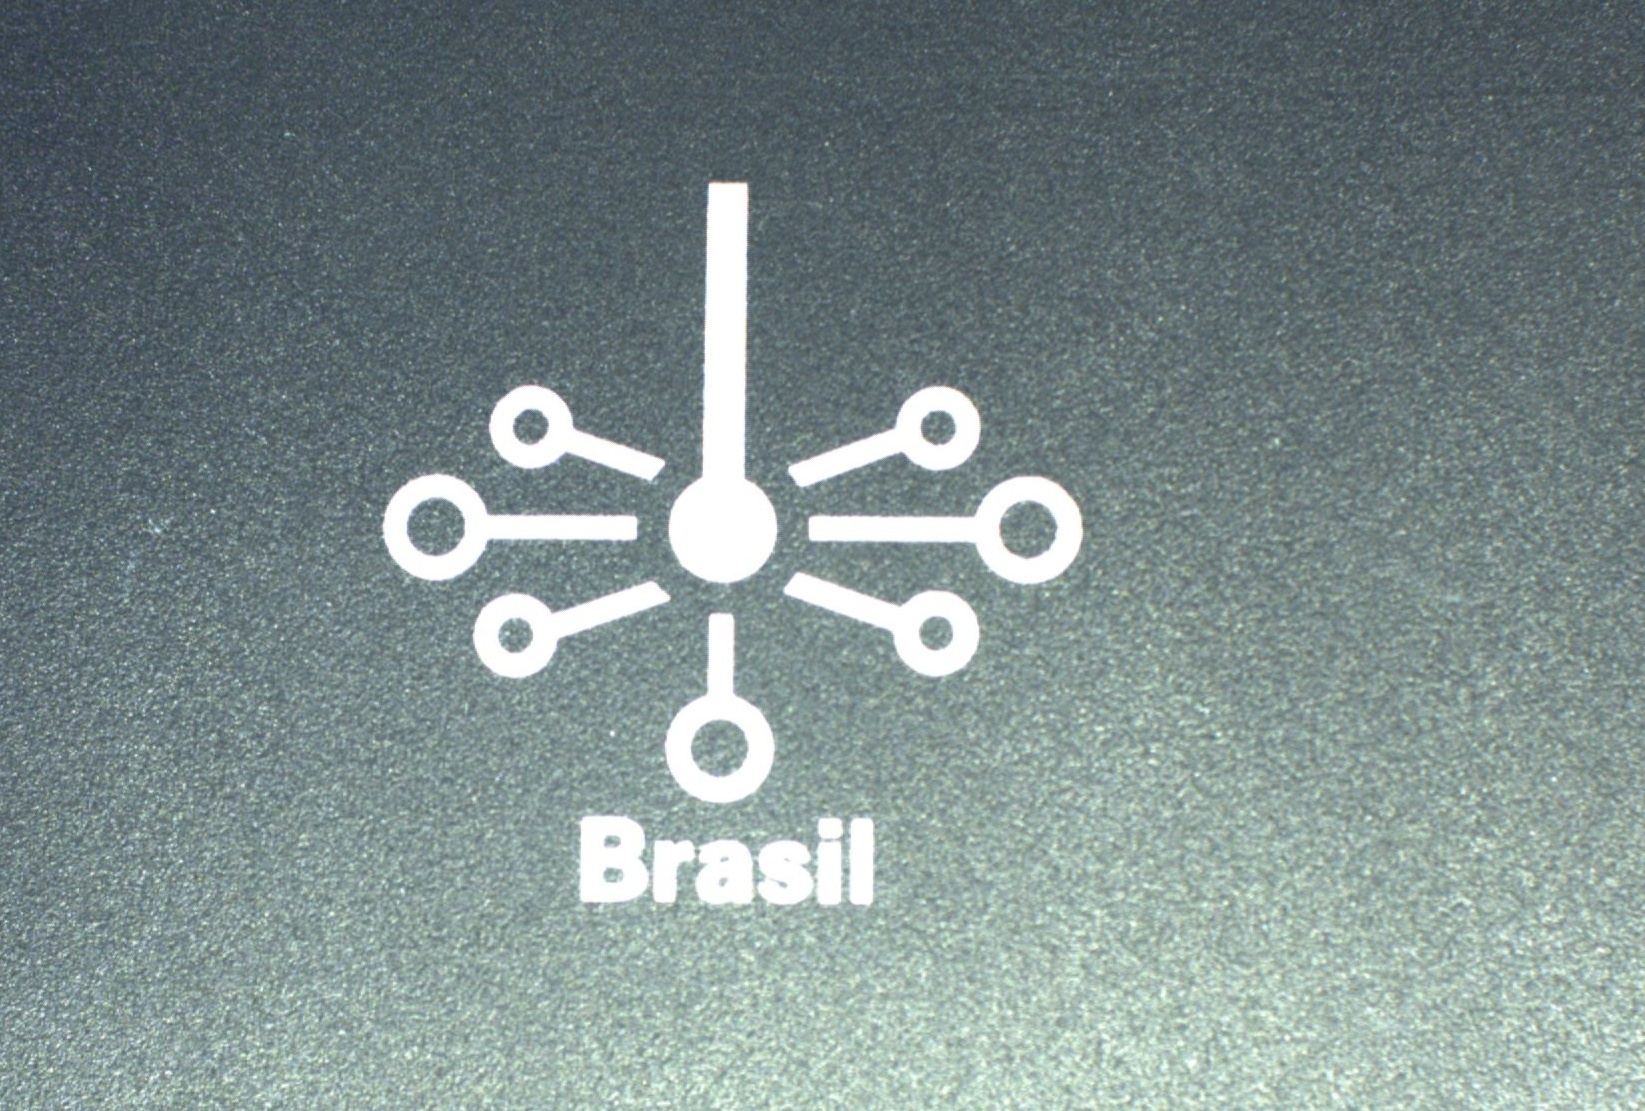BO_Brsail: (327, 166, 1091, 931)
